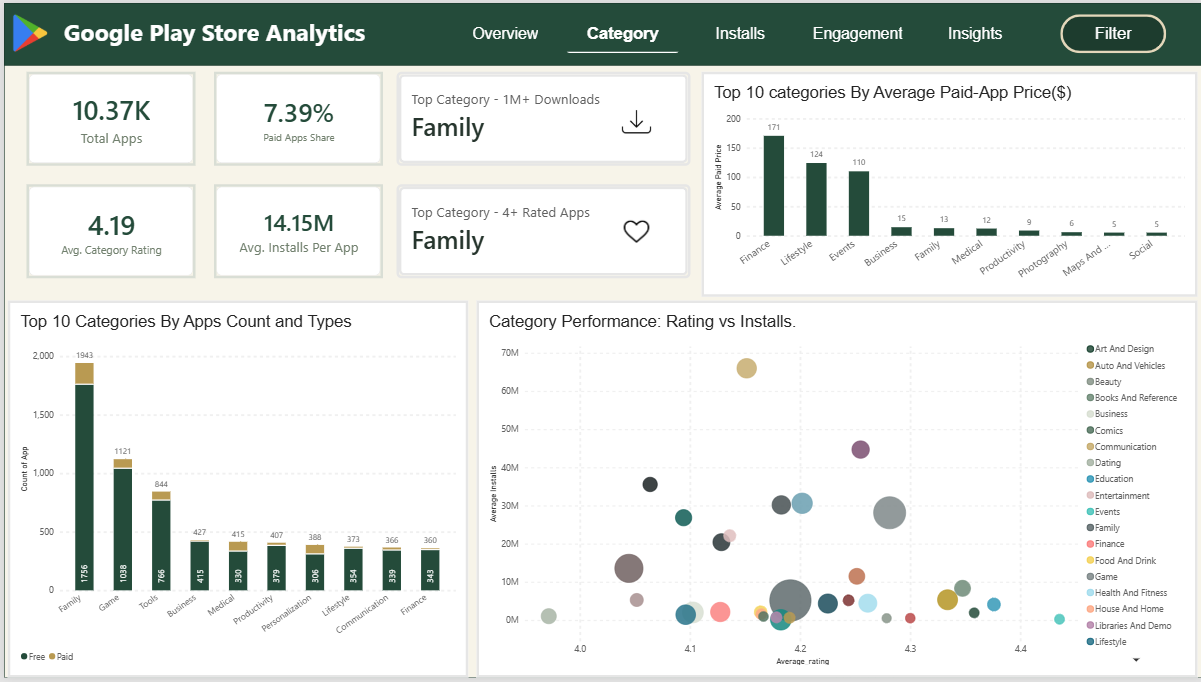

Layout of this report page (visuals, bound fields, positions):
{"tool":"powerbi","page":{"name":"Category","canvas":[1920,1080],"ordinal":1},"visuals":[{"type":"shape","box":[0,0,1920,1079.5],"z":0},{"type":"shape","box":[0,0,1920,100],"z":0,"group":"g1"},{"type":"textbox","box":[95,20,525,60],"z":1000,"group":"g1"},{"type":"cardVisual","fields":{"Data":["measure_table.Paid Apps %"]},"box":[336.7,110,270,150],"z":1000},{"type":"pageNavigator","box":[712.5,20,935,60],"z":1500,"group":"g1"},{"type":"image","box":[10.8,8.7,62.8,80.1],"z":1750,"group":"g1"},{"type":"actionButton","box":[1689.3,17.9,169.6,62.5],"z":2000,"group":"g1"},{"type":"cardVisual","fields":{"Data":["measure_table.Average_rating"]},"box":[36.7,290,270,150],"z":2000},{"type":"cardVisual","fields":{"Data":["CountNonNull(Apps.App)"]},"box":[36.7,110,270,150],"z":3000},{"type":"cardVisual","fields":{"Data":["measure_table.Average Installs"]},"box":[336.7,290,270,150],"z":4000},{"type":"scatterChart","title":"Category Performance: Rating vs Installs.","fields":{"Category":["Apps.Category"],"Series":["Apps.Category"],"Size":["CountNonNull(Apps.App)"],"X":["measure_table.Average_rating"],"Y":["measure_table.Average Installs"]},"box":[756.7,476.7,1153.3,603.3],"z":5000},{"type":"columnChart","title":"Top 10 Categories By Apps Count and Types","fields":{"Category":["Apps.Category"],"Series":["Apps.Type"],"Y":["CountNonNull(Apps.App)"]},"box":[6.7,476.7,736.7,603.3],"z":6000},{"type":"columnChart","title":"Top 10 categories By Average Paid-App Price($)","fields":{"Category":["Apps.Category"],"Y":["measure_table.Average Paid Price"]},"box":[1116.7,110,793.3,360],"z":7000},{"type":"group","id":"g1","title":"Group 1","box":[0,0,1920,100],"z":8000},{"type":"cardVisual","fields":{"Data":["measure_table.Top Category 1M Downloads"]},"box":[627.5,110,470,150],"z":11000},{"type":"cardVisual","fields":{"Data":["measure_table.Top Category Rating 4"]},"box":[627.5,290,470,150],"z":12000},{"type":"image","box":[982.5,160,60,60],"z":13000},{"type":"image","box":[982.5,335,60,60],"z":14000}]}

Visuals, with their boxes in screenshot pixels (x1, y1, x2, y2), scaled from the page's 1920x1080 canvas onto the 1201x682 screenshot:
shape: [0,0,1200,681]
shape: [0,0,1200,63]
textbox: [59,13,388,51]
cardVisual - measure_table.Paid Apps %: [211,69,380,164]
pageNavigator: [446,13,1031,51]
image: [7,5,46,56]
actionButton: [1057,11,1163,51]
cardVisual - measure_table.Average_rating: [23,183,192,278]
cardVisual - CountNonNull(Apps.App): [23,69,192,164]
cardVisual - measure_table.Average Installs: [211,183,380,278]
"Category Performance: Rating vs Installs." scatterChart: [473,301,1195,681]
"Top 10 Categories By Apps Count and Types" columnChart: [4,301,465,681]
"Top 10 categories By Average Paid-App Price($)" columnChart: [699,69,1195,297]
"Group 1" group: [0,0,1200,63]
cardVisual - measure_table.Top Category 1M Downloads: [393,69,687,164]
cardVisual - measure_table.Top Category Rating 4: [393,183,687,278]
image: [615,101,652,139]
image: [615,212,652,249]
